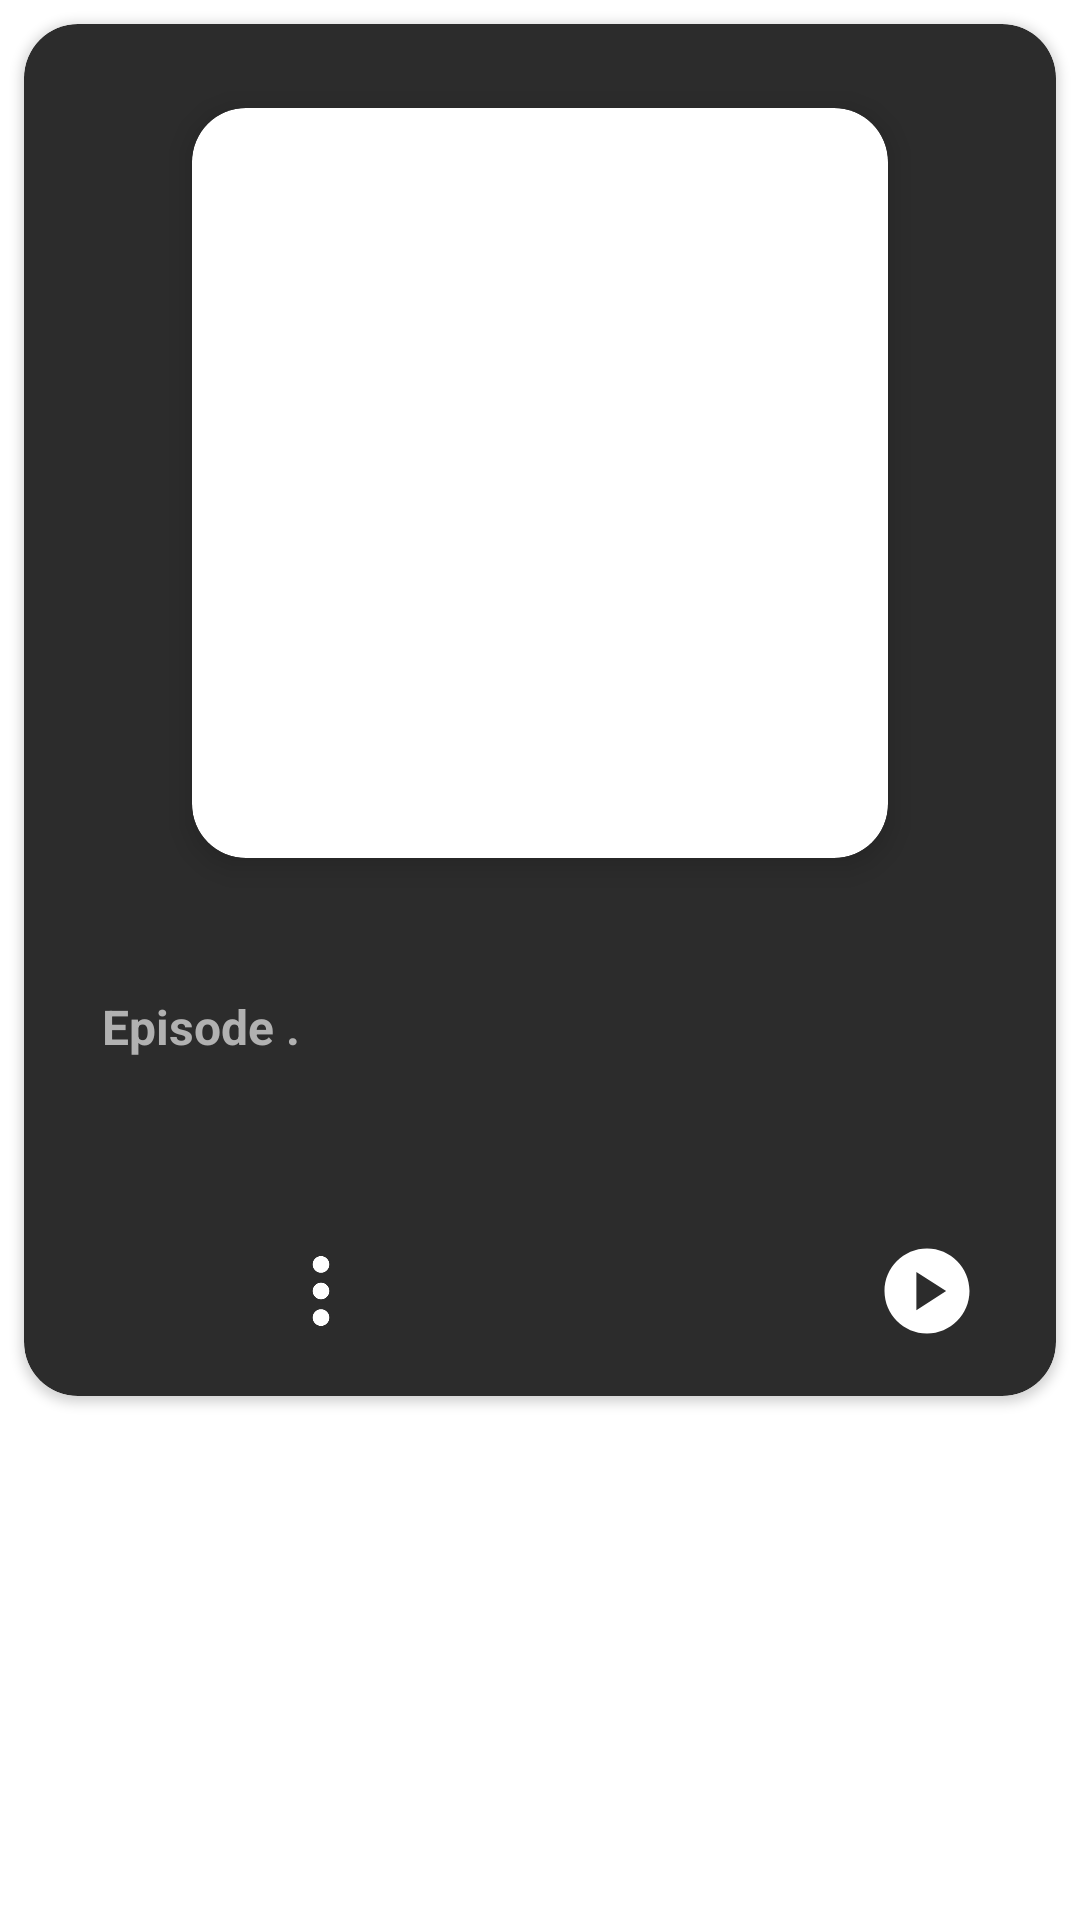

Screen size 1080x1920. Icon name, then its center in pixels as [x,y]:
play online: [927,1291]
three dots: [321,1291]
